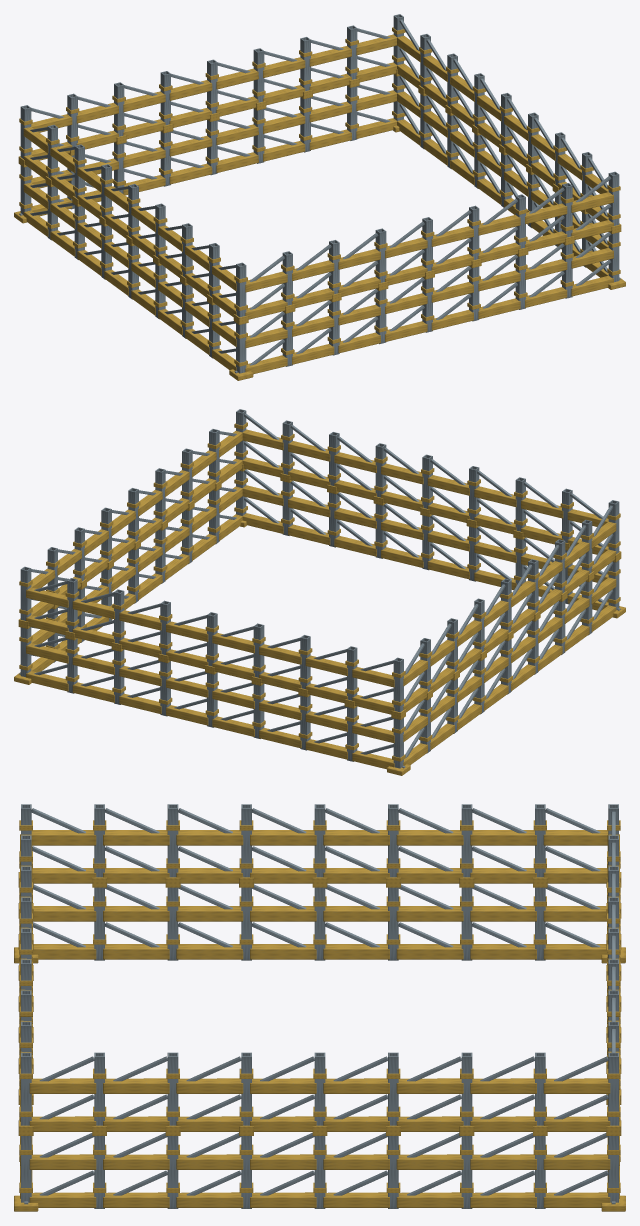
The picture shows the model from 3 angles, top to bottom: view 1: azimuth 30°, elevation 25°; view 2: azimuth 150°, elevation 25°; view 3: azimuth 270°, elevation 25°; orthographic projection. The views are drawn at different scales.
Parts seen in each view (by area): view 1: Tier 0 bay 2-1-4 service deck, Tier 1 bay 2-1-4 service deck, Tier 0 bay 2-0-4 service deck, Tier 0 bay 2-0-3 service deck, Tier 0 bay 2-1-3 service deck, Tier 1 bay 2-1-3 service deck, Tier 1 bay 2-1-5 service deck, Tier 0 bay 2-0-2 service deck, Tier 0 bay 2-1-2 service deck, Tier 0 bay 2-1-5 service deck, Tier 0 bay 2-0-1 service deck, Tier 1 bay 2-1-2 service deck (+1 smaller); view 2: Tier 0 bay 2-0-1 service deck; view 3: Tier 0 bay 3-1-2 service deck, Tier 0 bay 3-0-2 service deck, Tier 1 bay 3-1-2 service deck, Tier 0 bay 3-0-5 service deck, Tier 0 bay 3-1-5 service deck, Tier 1 bay 3-1-5 service deck, Tier 0 bay 1-1-0 service deck, Tier 0 bay 1-1-7 service deck, Tier 1 bay 1-1-0 service deck, Tier 1 bay 1-1-7 service deck, Tier 0 bay 1-1-2 service deck, Tier 1 bay 1-1-2 service deck (+84 smaller).
Part boxes in pixels (x1,y1,x2,y2): Tier 0 bay 2-1-4 service deck: [169, 136, 212, 156]; Tier 1 bay 2-1-4 service deck: [169, 80, 212, 100]; Tier 0 bay 2-0-4 service deck: [169, 163, 212, 184]; Tier 0 bay 2-0-3 service deck: [216, 152, 258, 172]; Tier 0 bay 2-1-3 service deck: [216, 124, 258, 144]; Tier 1 bay 2-1-3 service deck: [216, 68, 258, 89]; Tier 1 bay 2-1-5 service deck: [123, 91, 165, 112]; Tier 0 bay 2-0-2 service deck: [263, 141, 305, 161]; Tier 0 bay 2-1-2 service deck: [263, 113, 305, 133]; Tier 0 bay 2-1-5 service deck: [123, 147, 165, 167]; Tier 0 bay 2-0-1 service deck: [309, 129, 351, 150]; Tier 1 bay 2-1-2 service deck: [263, 57, 305, 77]; Tier 0 bay 2-0-1 service deck: [72, 682, 114, 702]; Tier 0 bay 3-1-2 service deck: [396, 906, 463, 921]; Tier 0 bay 3-0-2 service deck: [396, 944, 463, 959]; Tier 1 bay 3-1-2 service deck: [396, 830, 463, 845]; Tier 0 bay 3-0-5 service deck: [176, 944, 243, 959]; Tier 0 bay 3-1-5 service deck: [176, 906, 243, 921]; Tier 1 bay 3-1-5 service deck: [176, 830, 243, 845]; Tier 0 bay 1-1-0 service deck: [29, 1154, 96, 1169]; Tier 0 bay 1-1-7 service deck: [543, 1154, 610, 1169]; Tier 1 bay 1-1-0 service deck: [29, 1078, 96, 1093]; Tier 1 bay 1-1-7 service deck: [543, 1078, 610, 1093]; Tier 0 bay 1-1-2 service deck: [176, 1154, 243, 1169]; Tier 1 bay 1-1-2 service deck: [176, 1078, 243, 1093].
Size of the model in its own units: 3.75 by 1.03 by 3.75.
2 materials, 2 textured.
